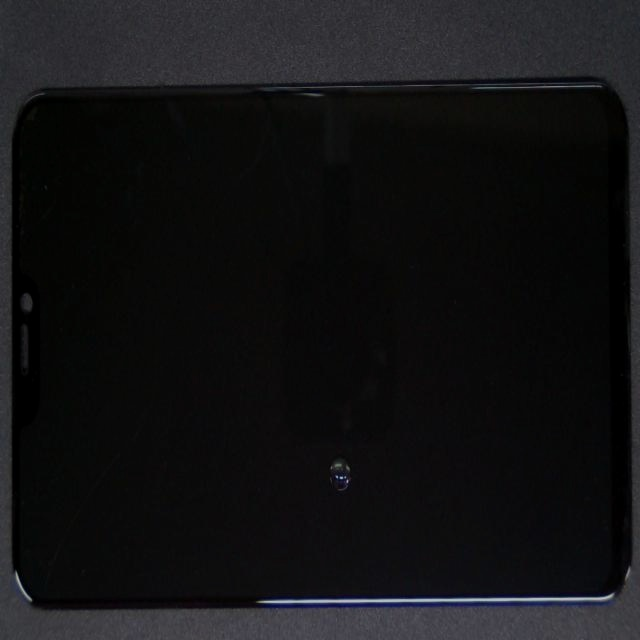oil: (181, 213, 497, 640)
